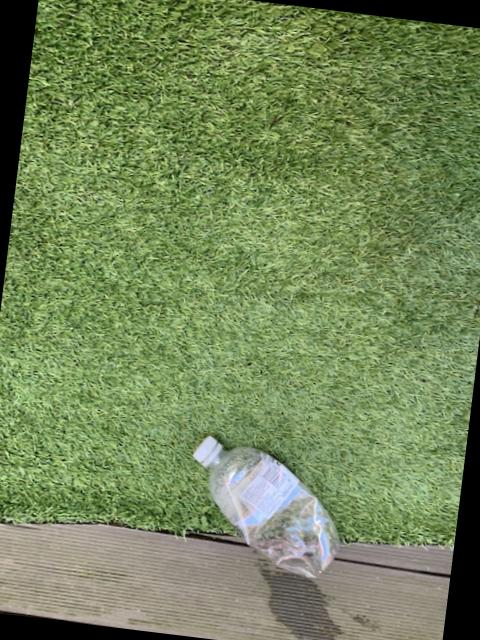plastic: (194, 437, 339, 577)
